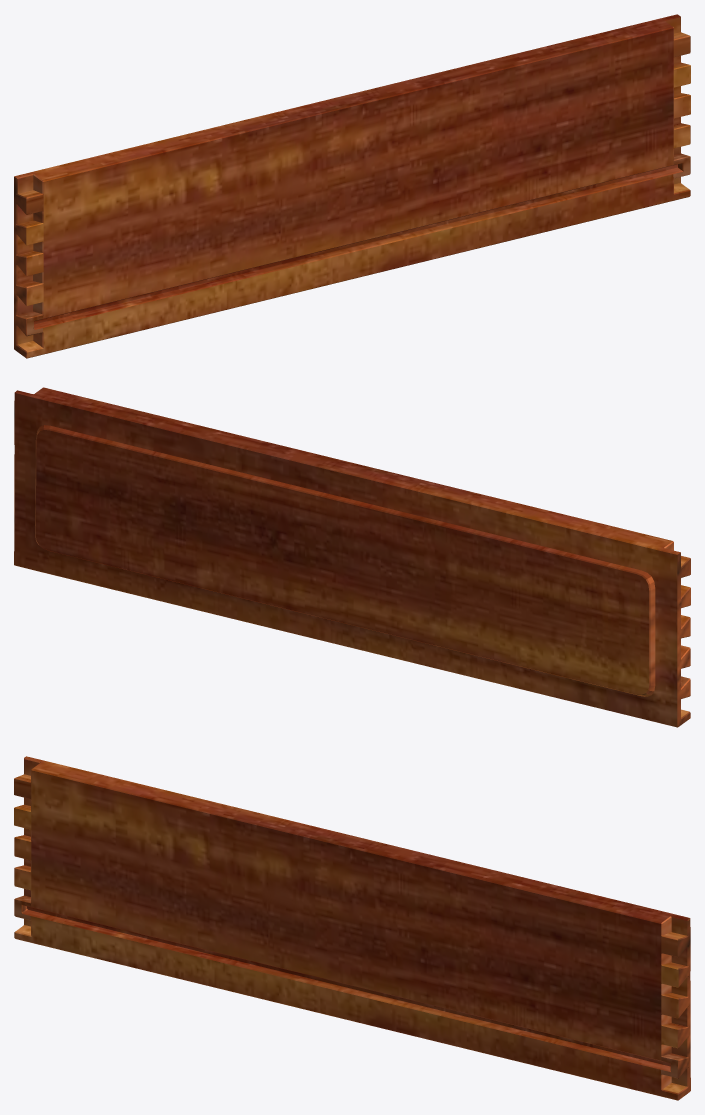
Rendered from SJ_J_choumian_01.FBX.
The picture shows the model from 3 angles, top to bottom: view 1: azimuth 30°, elevation 25°; view 2: azimuth 150°, elevation 25°; view 3: azimuth 330°, elevation 25°; orthographic projection.
Visible parts, largest first — view 1: SJ_J_choumian_01; view 2: SJ_J_choumian_01; view 3: SJ_J_choumian_01.
Part boxes in pixels (<box>): SJ_J_choumian_01: <box>14,14,690,358</box>; SJ_J_choumian_01: <box>14,387,690,727</box>; SJ_J_choumian_01: <box>14,756,690,1100</box>.
Size of the model in its own units: 48.01 by 12.01 by 2.
